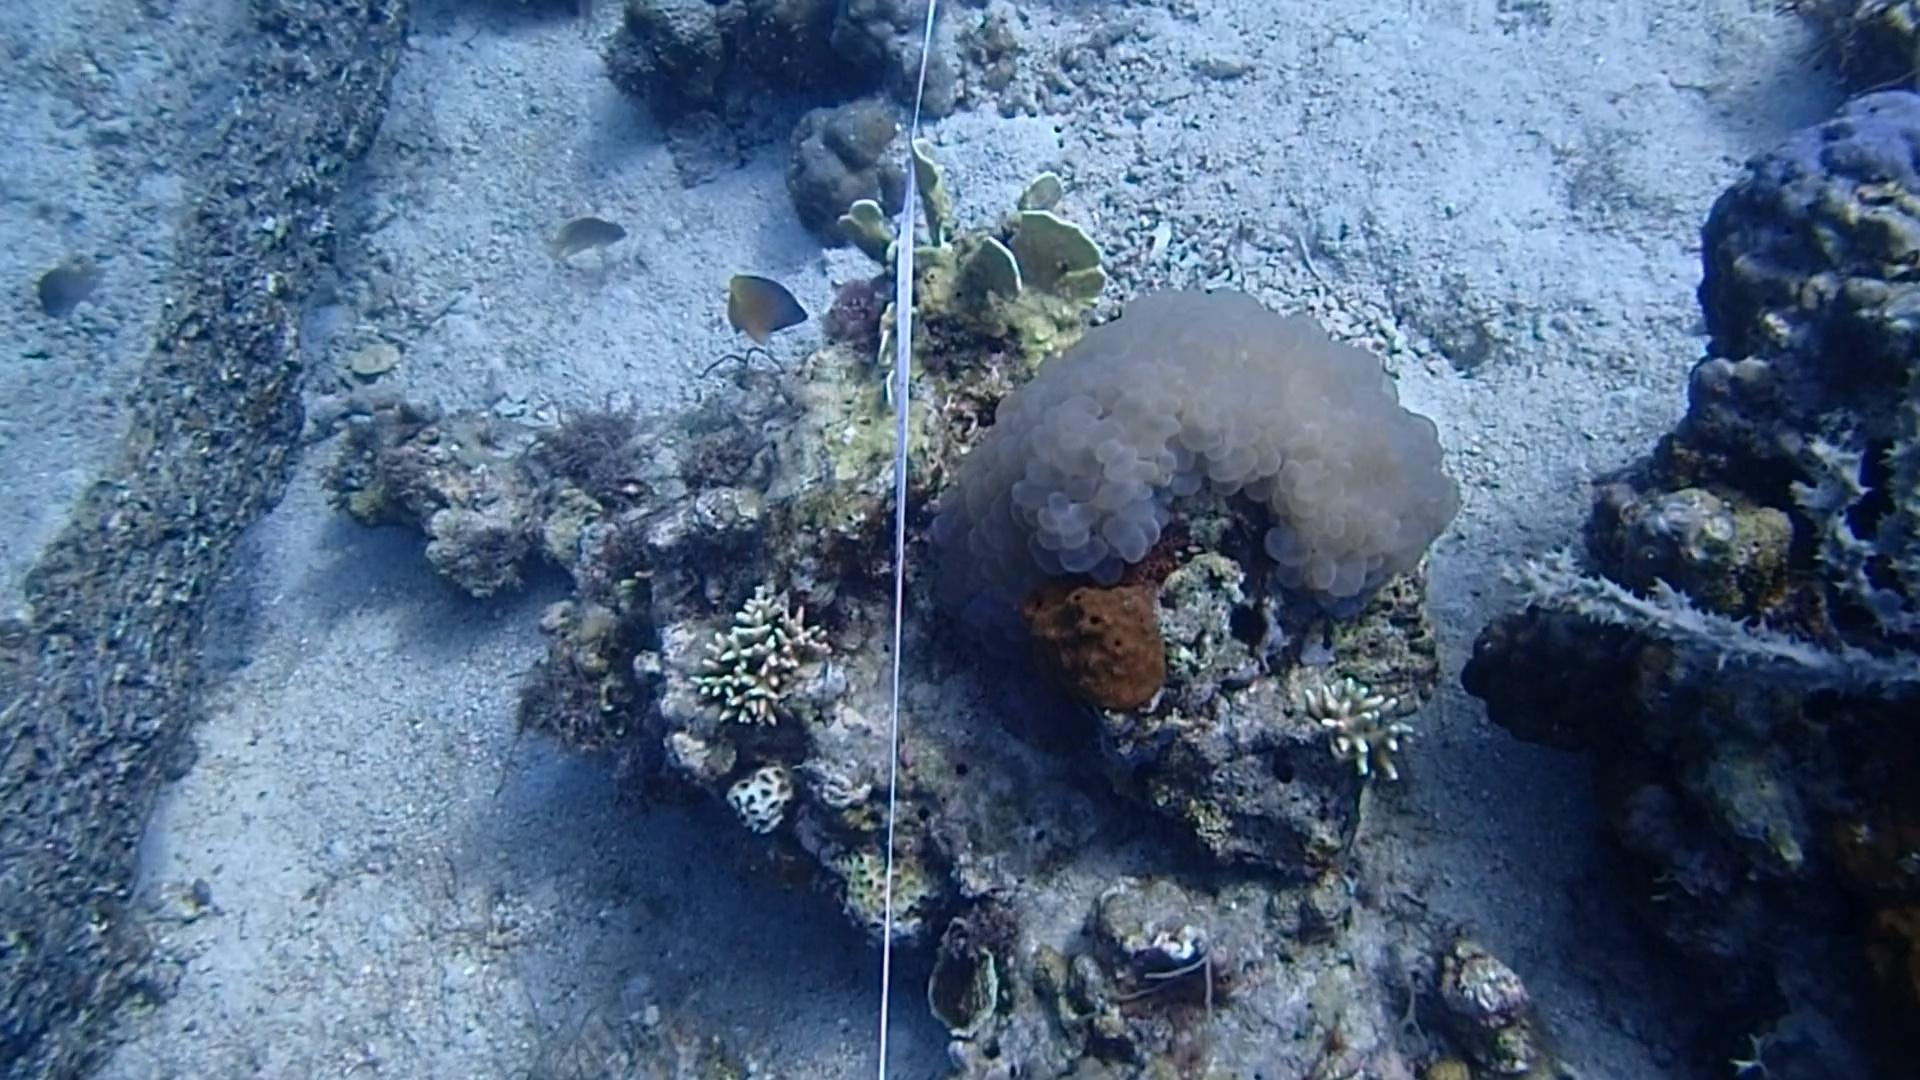Light Fish: (28, 247, 113, 330), (546, 202, 634, 266)
Yellow-Blue Fish: (705, 260, 825, 344)
